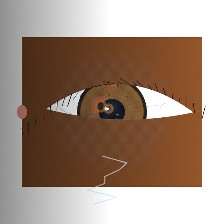foreign_body_visible: (81, 90, 121, 122)
